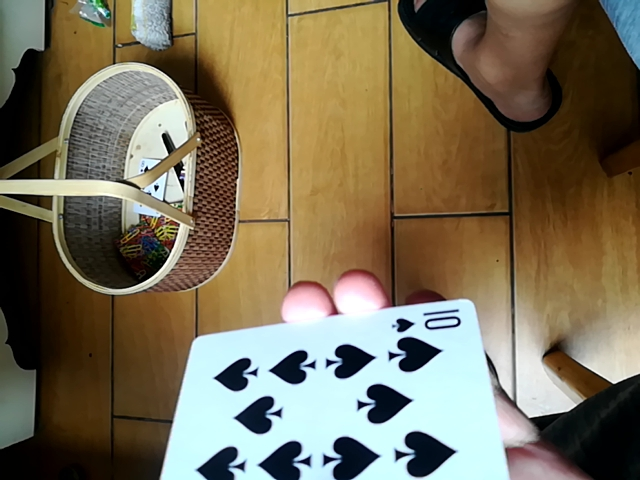ht 10: (158, 299, 502, 479)
